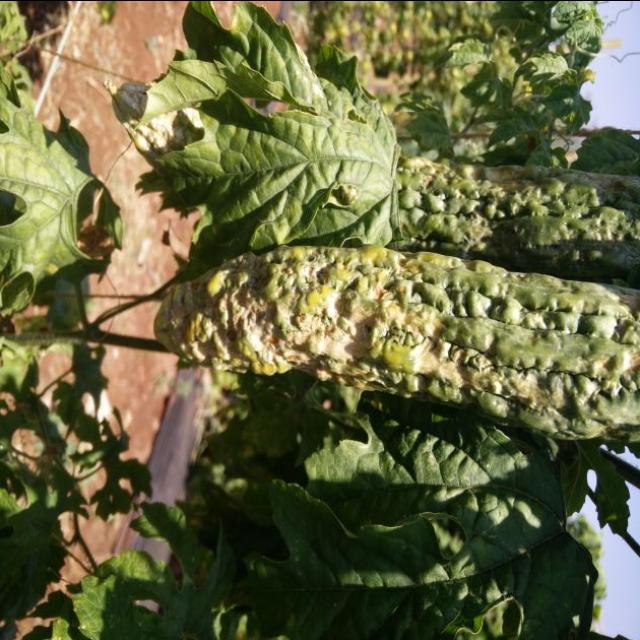Fruit fly: (146, 245, 640, 441), (394, 153, 640, 278), (64, 180, 127, 272)
